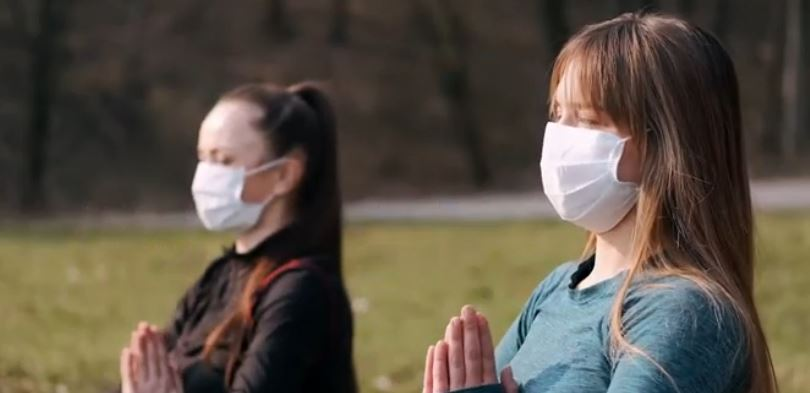with_mask: (544, 67, 646, 245), (199, 114, 275, 223)
